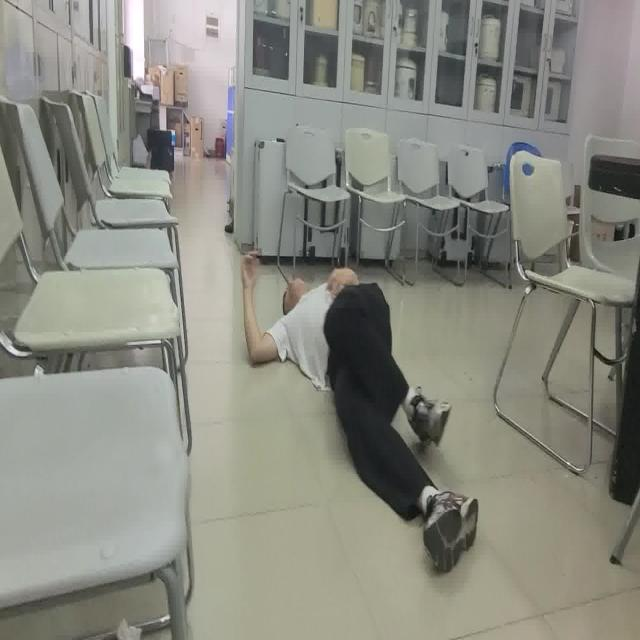Fall-Detected: (240, 247, 480, 580)
